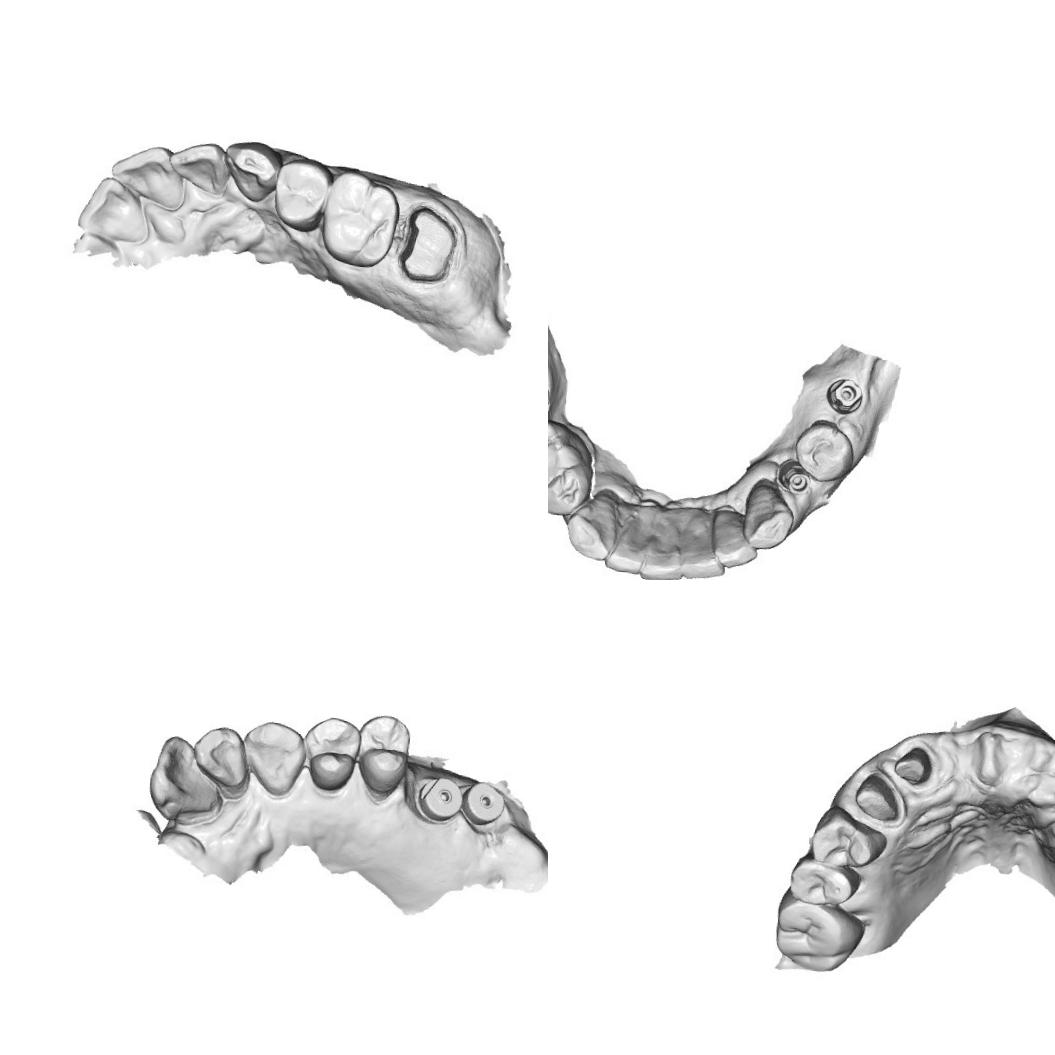canine: (238, 719, 311, 802), (564, 483, 628, 561), (740, 478, 800, 554), (221, 137, 277, 203)
crown: (397, 204, 470, 287), (851, 773, 903, 826), (890, 741, 934, 789)
implant: (413, 773, 470, 824), (822, 373, 871, 425), (770, 453, 816, 501), (464, 780, 508, 827)
incisor: (146, 734, 228, 827), (107, 143, 188, 210), (76, 178, 152, 248), (600, 492, 657, 578), (193, 728, 252, 796), (710, 502, 763, 575), (168, 141, 228, 205), (677, 505, 725, 580), (641, 510, 688, 580)
molar: (318, 166, 400, 270), (766, 897, 869, 977)
premolar: (807, 810, 886, 870), (780, 855, 866, 910), (356, 714, 412, 790), (272, 158, 330, 230), (302, 715, 358, 786), (795, 419, 852, 478), (548, 455, 596, 522), (548, 414, 568, 481)
